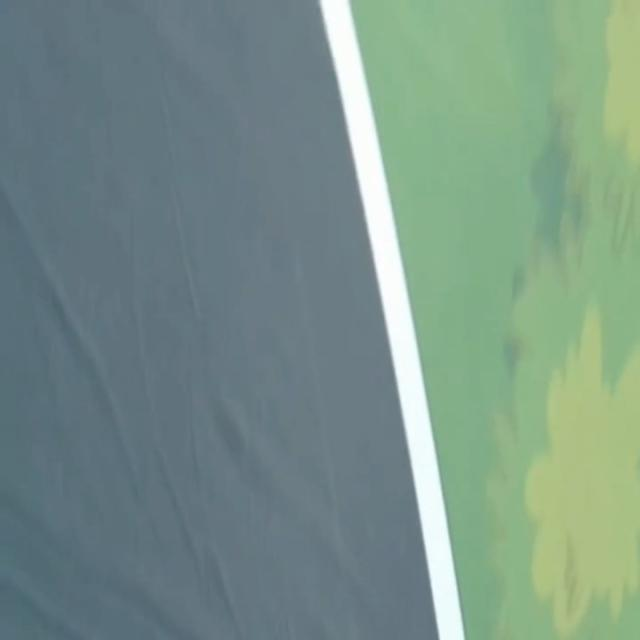right: (318, 0, 464, 639)
